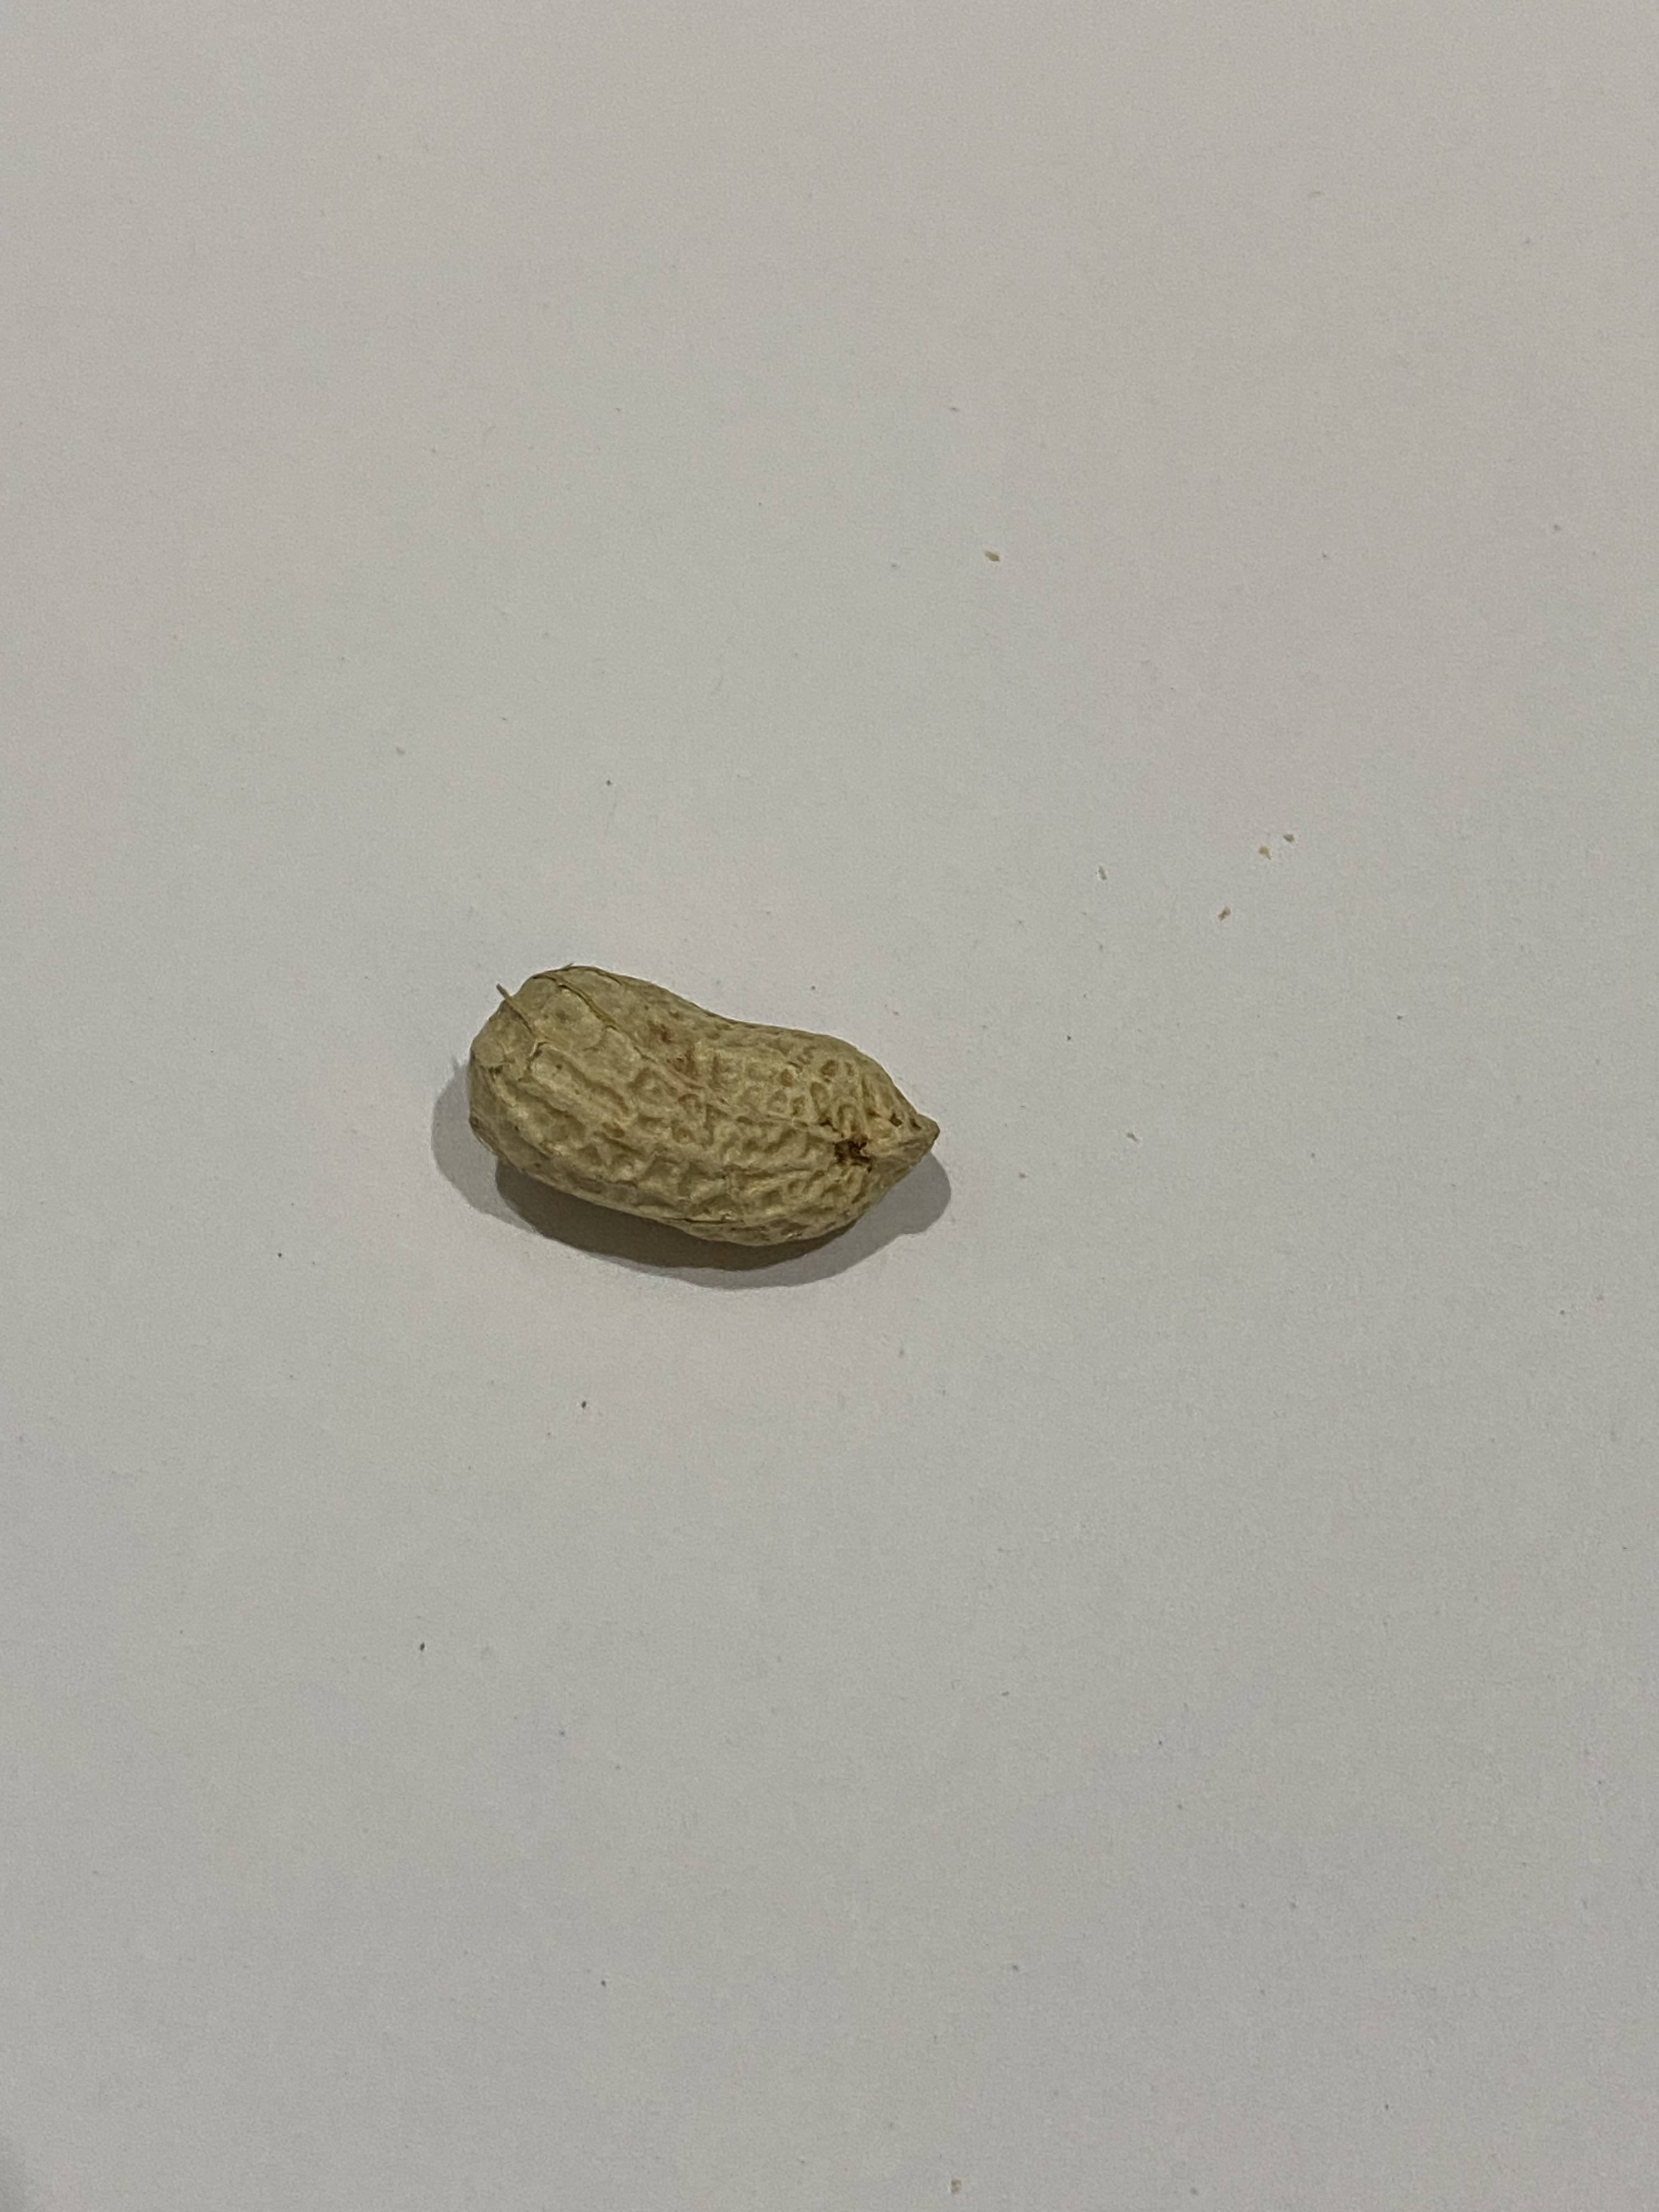kacang2: (464, 928, 943, 1273)
